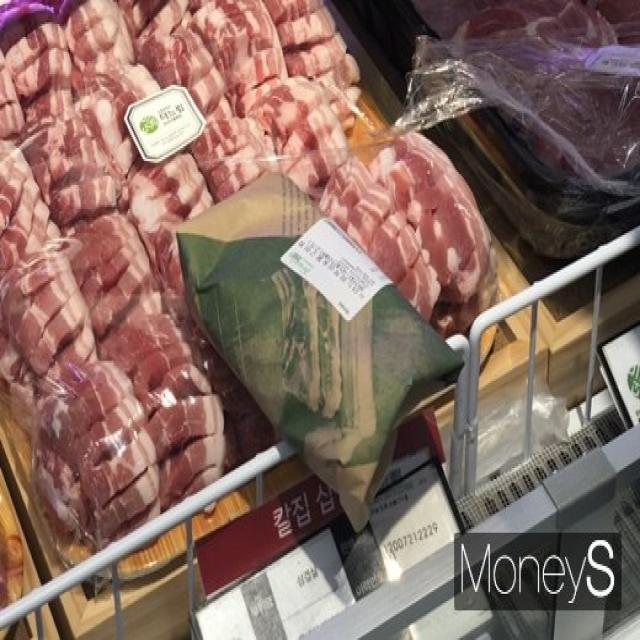pork: (5, 0, 351, 217), (0, 238, 239, 514), (338, 106, 451, 324)
